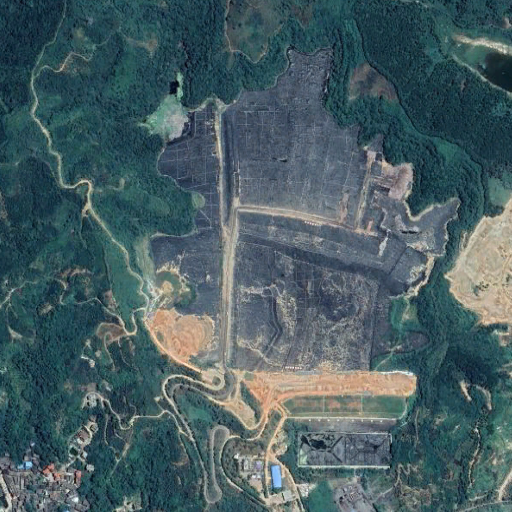lf: (150, 52, 459, 373)
